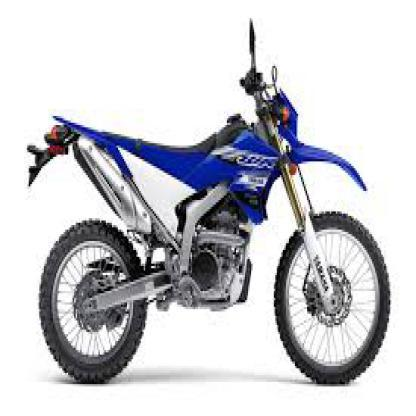Motorcycle: (23, 9, 392, 390)
